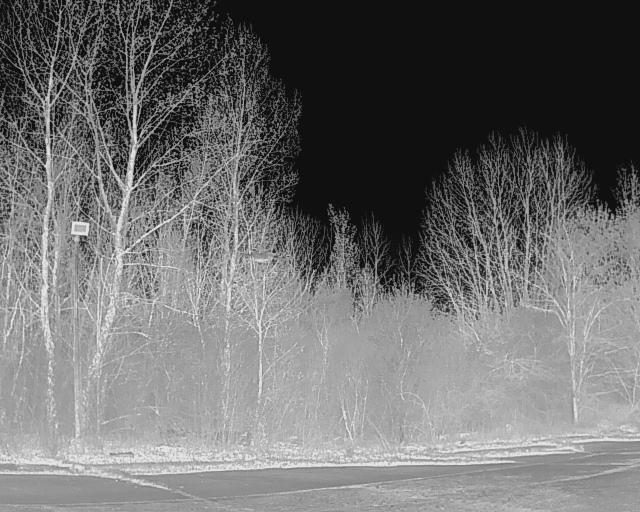drone: (233, 234, 292, 281)
